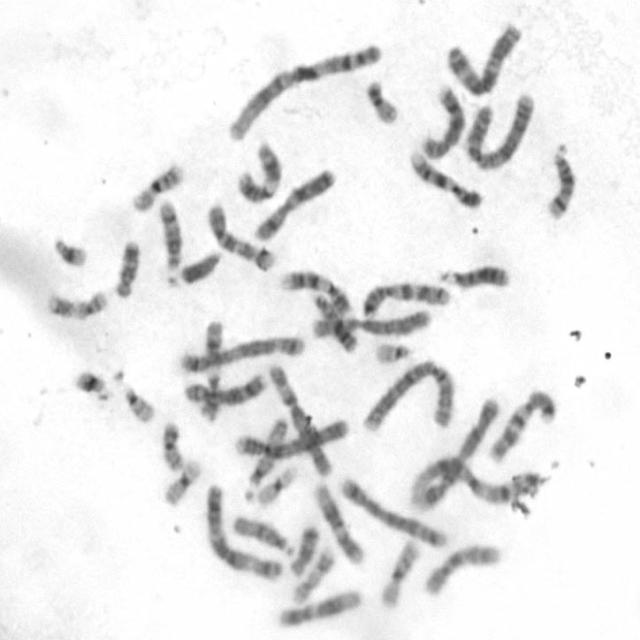A1: (222, 39, 384, 144), (406, 453, 541, 511)
A2: (359, 356, 457, 436), (462, 88, 536, 172)
A3: (202, 479, 284, 581), (442, 19, 523, 98)
B4: (408, 393, 502, 515), (231, 414, 351, 460)
B5: (337, 473, 447, 550), (176, 330, 308, 375)
C10: (202, 198, 276, 274), (420, 539, 502, 599)
C11: (233, 140, 284, 207), (197, 316, 226, 422)
C12: (309, 479, 366, 566), (273, 585, 363, 630)
C6: (266, 359, 334, 479), (308, 310, 432, 340)
C7: (485, 384, 558, 467), (359, 278, 452, 318)
C8: (416, 82, 466, 161), (180, 369, 269, 406)
C9: (406, 148, 484, 212), (276, 267, 354, 317)
D13: (312, 292, 356, 355), (435, 260, 511, 290)
D14: (543, 138, 576, 220), (155, 197, 184, 273)
D15: (241, 413, 290, 504), (230, 511, 296, 557)
E16: (376, 537, 422, 610), (128, 160, 186, 214)
E17: (287, 544, 337, 607), (43, 286, 110, 321)
E18: (110, 236, 142, 300), (286, 522, 320, 578)
F19: (160, 455, 203, 508), (252, 462, 299, 500)
F20: (158, 418, 196, 473), (362, 74, 400, 127)
G21: (49, 232, 92, 270), (70, 366, 113, 402)
G22: (120, 381, 156, 425), (371, 338, 415, 364)
X: (249, 165, 338, 243)
Y: (175, 246, 223, 286)
